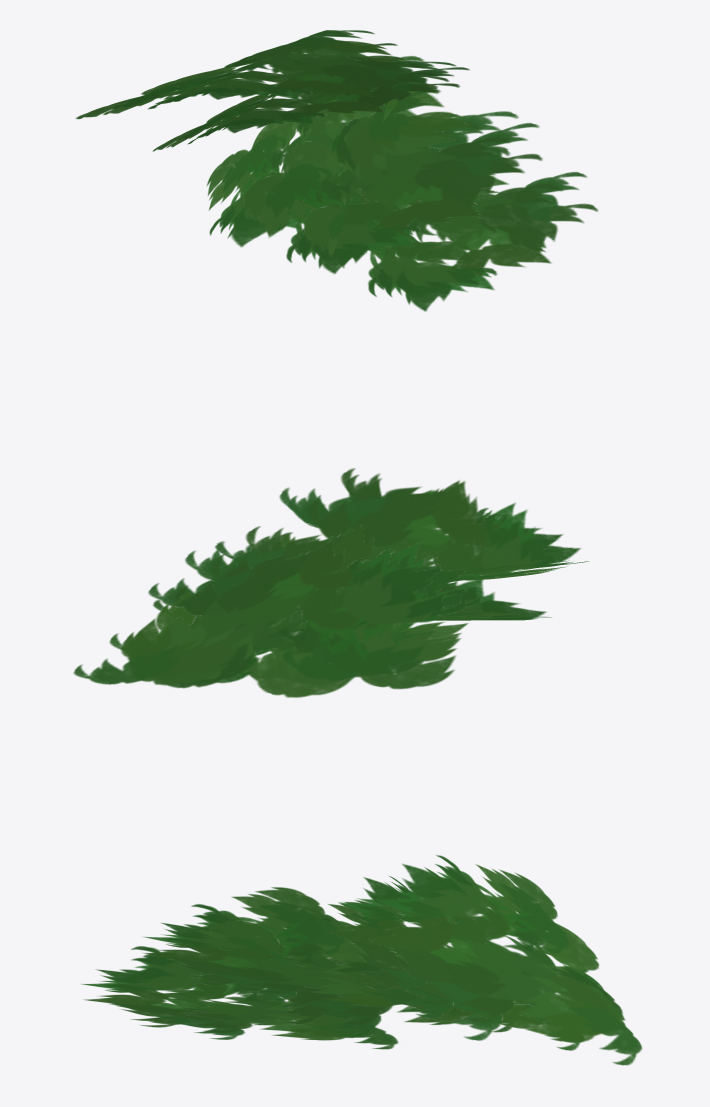
The model's file is Vines.glb.
3 renders of one model, top to bottom at view 1: azimuth 30°, elevation 25°; view 2: azimuth 150°, elevation 25°; view 3: azimuth 270°, elevation 25°, orthographic. The views are drawn at different scales.
Parts seen in each view (by area): view 1: Vines; view 2: Vines; view 3: Vines.
Boxes of the visible parts, x1,y1,x2,y2 form: Vines: (75, 30, 598, 311); Vines: (73, 468, 589, 697); Vines: (81, 855, 642, 1065).
Size of the model in its own units: 2.3 by 0.6613 by 3.38.
Materials: 1 (1 with a texture image).
